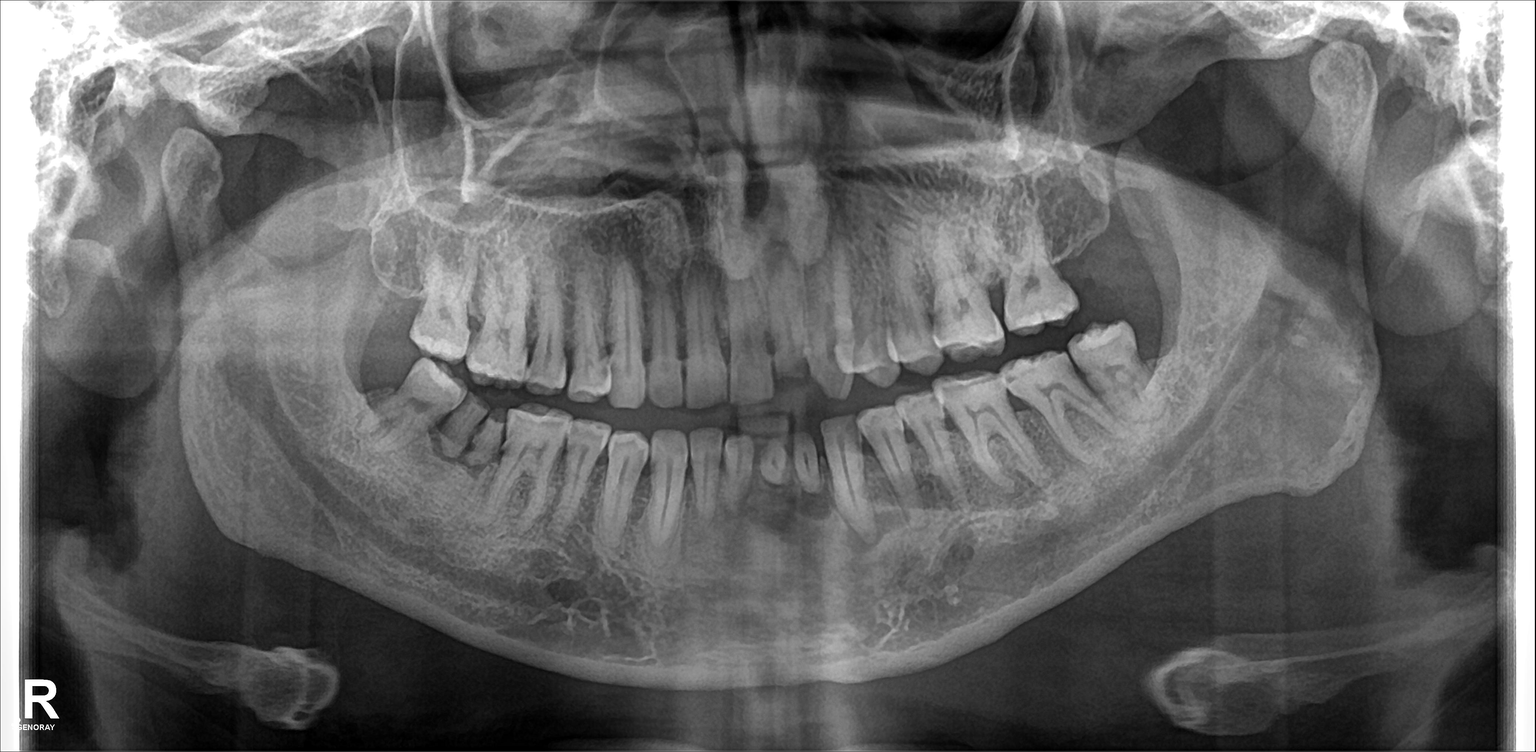Missing Tooth: (1063, 188, 1129, 292), (376, 233, 422, 338), (358, 354, 398, 425)
Retained Root: (464, 387, 510, 472)
